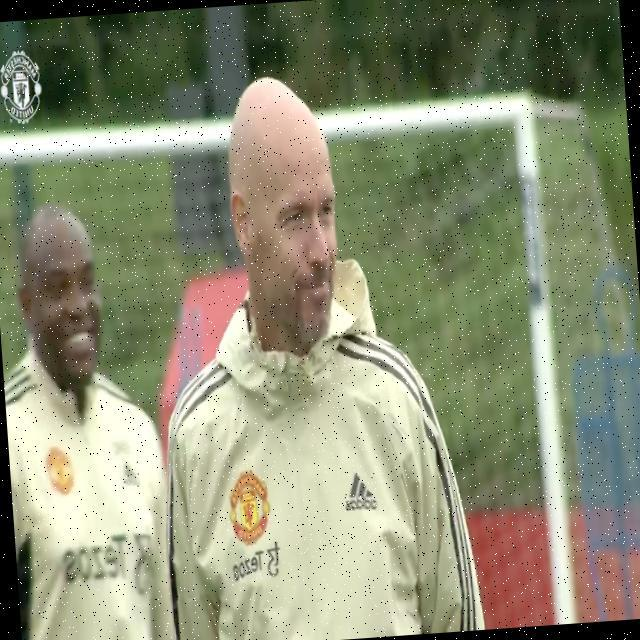Adidas: (343, 472, 378, 511), (120, 458, 140, 488)
